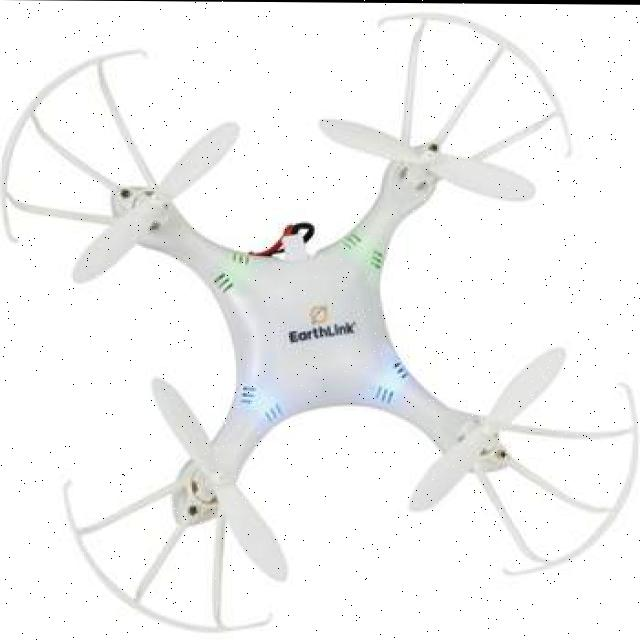drone: (0, 5, 640, 640)
